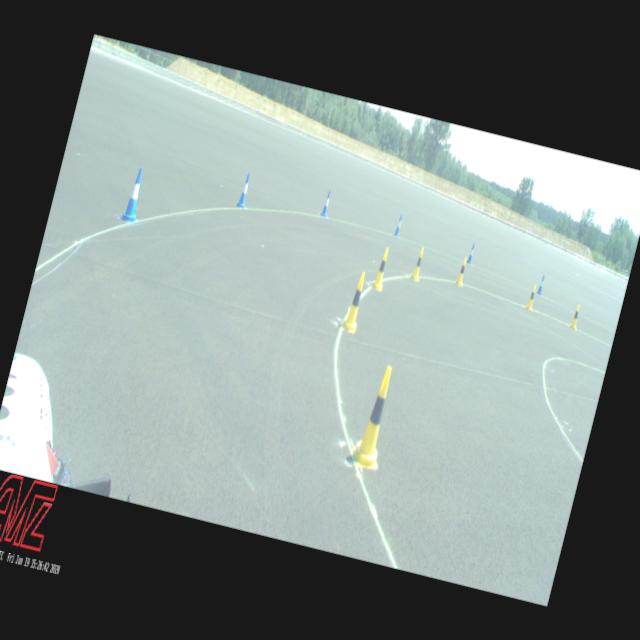blue_cone: (119, 164, 149, 223), (235, 172, 252, 208), (320, 190, 332, 216), (394, 213, 404, 236), (536, 274, 546, 295), (466, 242, 475, 264)
yellow_cone: (348, 362, 402, 471), (341, 270, 369, 333), (371, 247, 392, 291), (409, 246, 426, 281), (454, 256, 470, 286), (525, 283, 538, 311), (568, 303, 582, 329)
